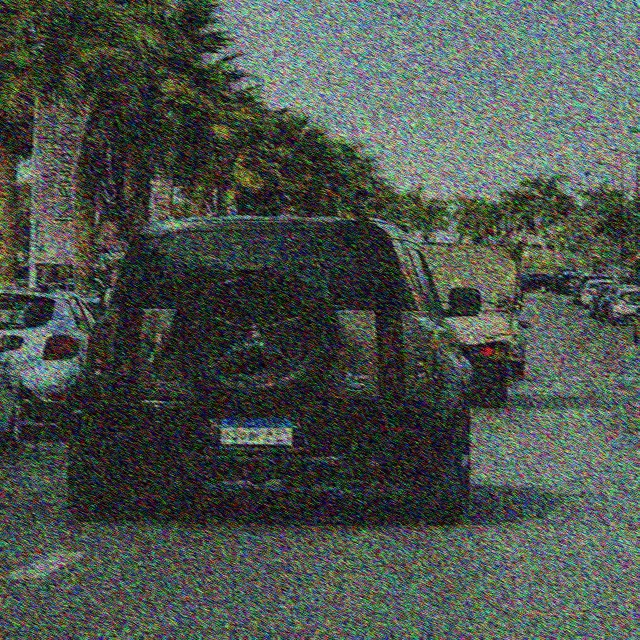License Plate: (218, 416, 295, 449)
